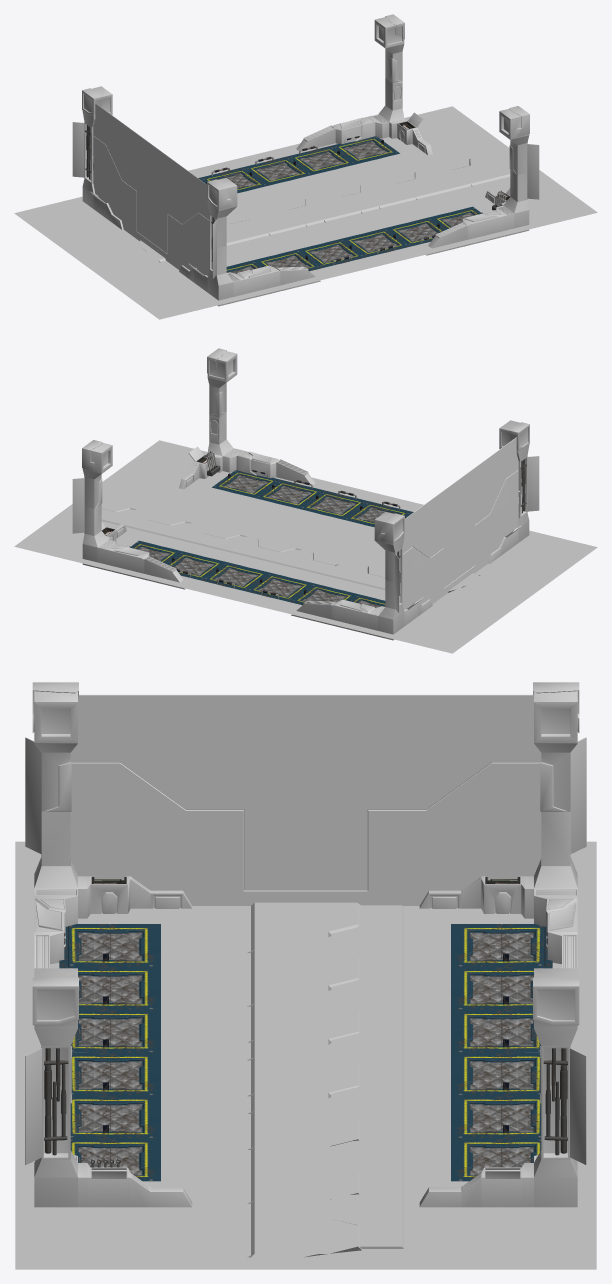
File: hetong.fbx
3 views of the same model, one above another, from view 1: azimuth 30°, elevation 25°; view 2: azimuth 150°, elevation 25°; view 3: azimuth 270°, elevation 25° (orthographic). The views are drawn at different scales.
Parts seen in each view (by area): view 1: 平面.005, Cube.007, 大门, denseFloorPanel.001_Plane.017, 平面.003_平面.001, 平面.004_平面.003; view 2: 平面.005, Cube.007, 大门, denseFloorPanel.001_Plane.017, 平面.003_平面.001, 平面.004_平面.003; view 3: 大门, 平面.005, Cube.007, denseFloorPanel.001_Plane.017, 平面.003_平面.001, 平面.004_平面.003, 柱子-背部管道_柱体.
Part boxes in pixels (left/top/right/bottom): 平面.005: left=14, top=106, right=597, bottom=319; Cube.007: left=72, top=14, right=539, bottom=306; 大门: left=89, top=103, right=215, bottom=275; denseFloorPanel.001_Plane.017: left=198, top=136, right=482, bottom=273; 平面.003_平面.001: left=140, top=153, right=510, bottom=262; 平面.004_平面.003: left=226, top=146, right=490, bottom=223; 平面.005: left=14, top=440, right=597, bottom=653; Cube.007: left=72, top=348, right=539, bottom=640; 大门: left=396, top=437, right=522, bottom=609; denseFloorPanel.001_Plane.017: left=129, top=470, right=413, bottom=607; 平面.003_平面.001: left=101, top=485, right=480, bottom=592; 平面.004_平面.003: left=101, top=509, right=385, bottom=589; 大门: left=70, top=694, right=541, bottom=905; 平面.005: left=15, top=841, right=596, bottom=1269; Cube.007: left=25, top=682, right=586, bottom=1207; denseFloorPanel.001_Plane.017: left=59, top=924, right=552, bottom=1181; 平面.003_平面.001: left=247, top=902, right=362, bottom=1257; 平面.004_平面.003: left=331, top=905, right=403, bottom=1248; 柱子-背部管道_柱体: left=44, top=1048, right=567, bottom=1155.
Size of the model in its own units: 2405 by 611 by 1381.
